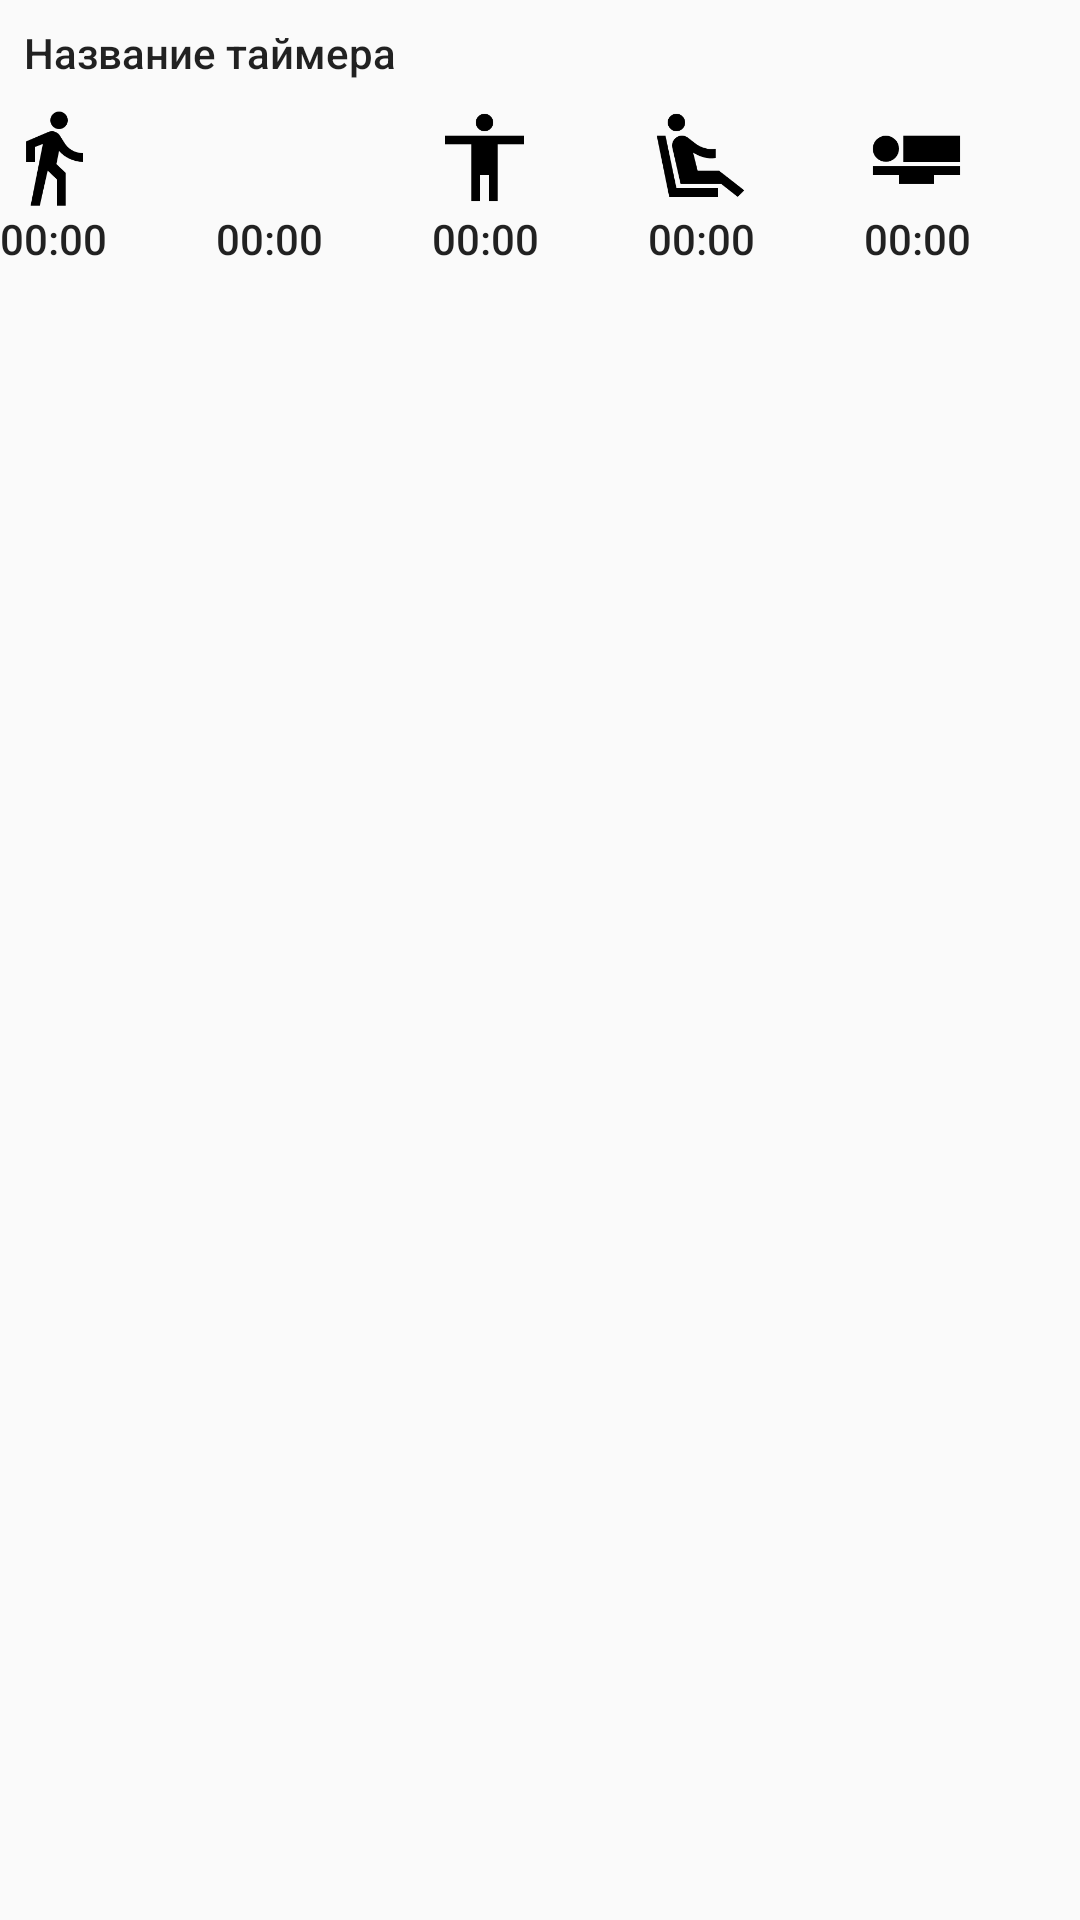

Icons on this 1080 × 1920 Android screen, each with the point to tap as (x,y):
accessibility: (484,157)
airline seat: (916,159)
airline seat recline extra: (700,155)
directions walk: (54,158)
